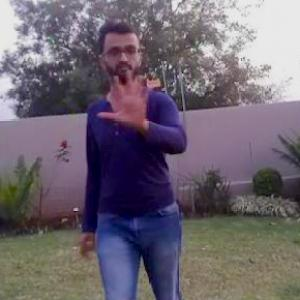follow_hand: (94, 66, 152, 132)
